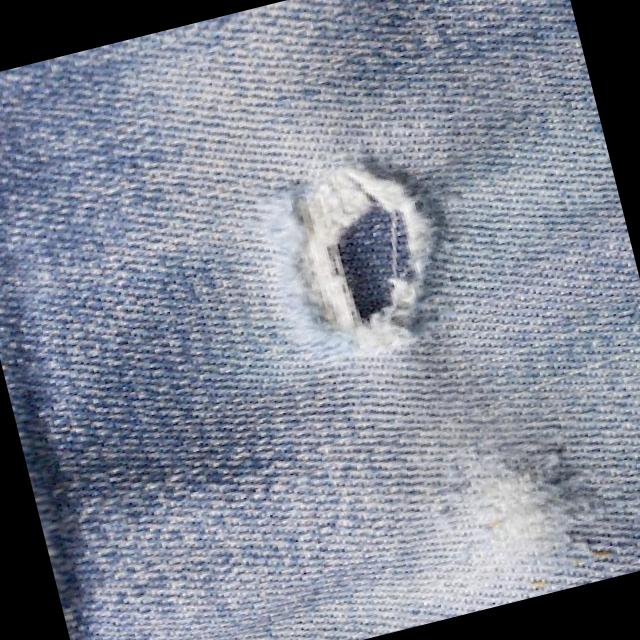hole: (264, 149, 457, 363)
